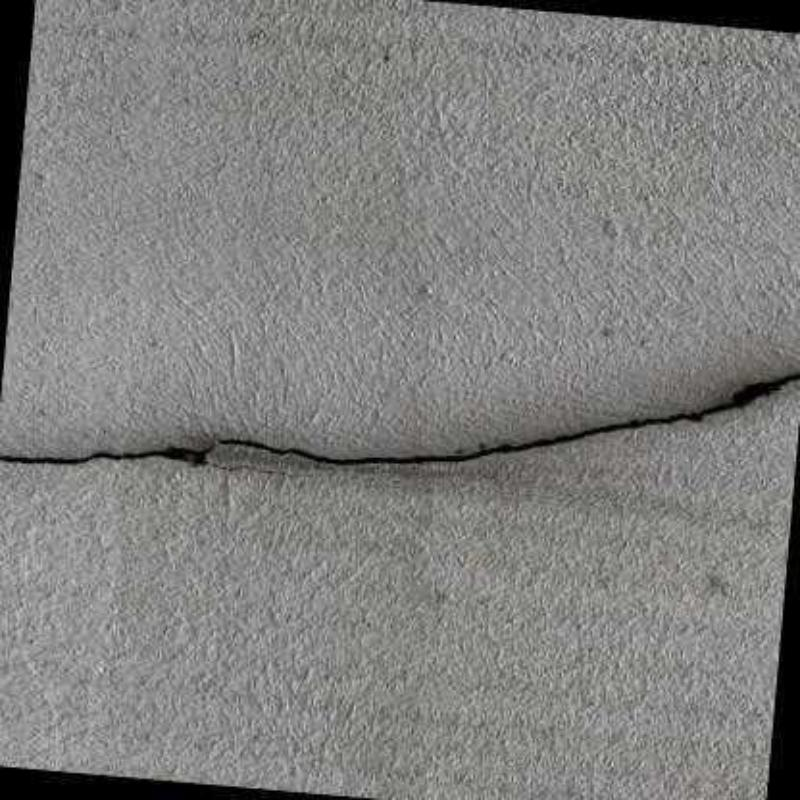pothole: (0, 371, 798, 469), (210, 463, 290, 477)
